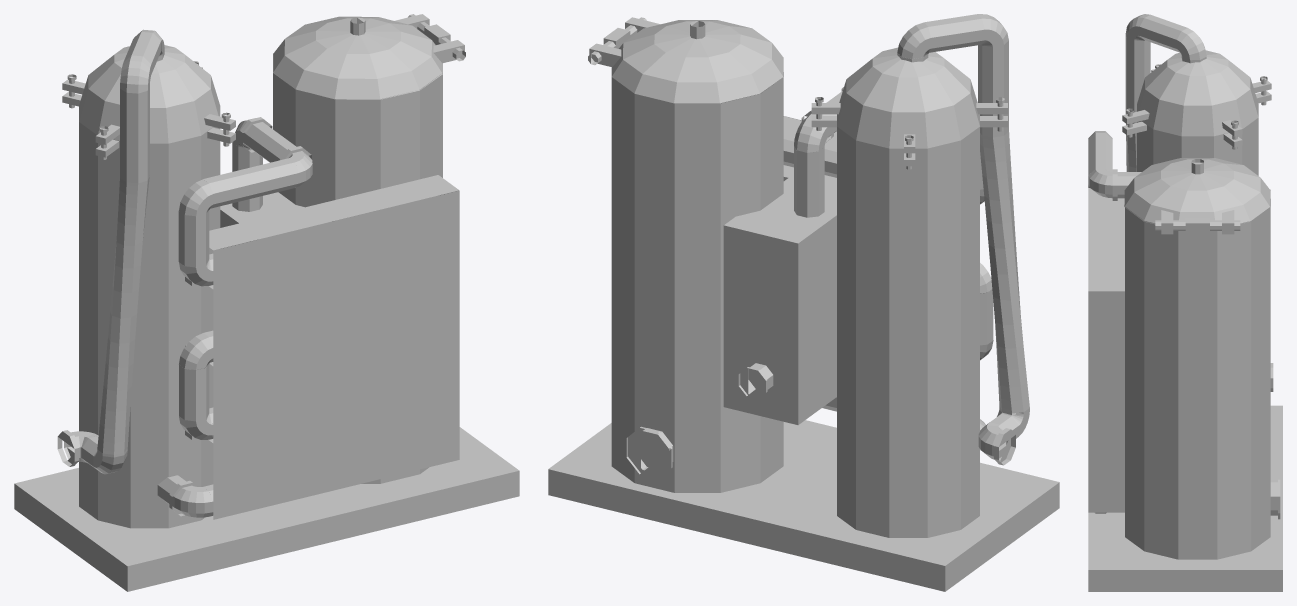
3 renders of one model, left to right at view 1: azimuth 30°, elevation 25°; view 2: azimuth 150°, elevation 25°; view 3: azimuth 270°, elevation 25°, orthographic. The views are drawn at different scales.
Parts seen in each view (by area): view 1: pipe-cover_pipe_cover_2, gas-filter_cylinder.022, firebox_cylinder.060, gasifier-base_base, piping2_cylinder.002, piping1_cylinder.059, condenser_cylinder.054; view 2: gas-filter_cylinder.022, firebox_cylinder.060, gasifier-base_base, condenser_cylinder.054, piping2_cylinder.002, piping1_cylinder.059, pipe-cover_pipe_cover_2; view 3: firebox_cylinder.060, gas-filter_cylinder.022, pipe-cover_pipe_cover_2, gasifier-base_base, piping2_cylinder.002, piping1_cylinder.059.
Boxes of the visible parts, <box> form: pipe-cover_pipe_cover_2: <box>185,175,459,519</box>; gas-filter_cylinder.022: <box>62,45,235,528</box>; firebox_cylinder.060: <box>273,14,465,483</box>; gasifier-base_base: <box>14,427,519,591</box>; piping2_cylinder.002: <box>57,29,164,474</box>; piping1_cylinder.059: <box>174,117,312,517</box>; condenser_cylinder.054: <box>220,192,329,248</box>; gas-filter_cylinder.022: <box>811,47,1007,537</box>; firebox_cylinder.060: <box>588,17,783,492</box>; gasifier-base_base: <box>548,420,1059,591</box>; condenser_cylinder.054: <box>723,174,836,424</box>; piping2_cylinder.002: <box>897,14,1029,465</box>; piping1_cylinder.059: <box>783,87,993,427</box>; pipe-cover_pipe_cover_2: <box>783,116,836,182</box>; firebox_cylinder.060: <box>1124,158,1280,559</box>; gas-filter_cylinder.022: <box>1122,50,1271,175</box>; pipe-cover_pipe_cover_2: <box>1088,188,1124,512</box>; gasifier-base_base: <box>1088,405,1282,591</box>; piping2_cylinder.002: <box>1125,14,1206,171</box>; piping1_cylinder.059: <box>1088,131,1141,513</box>.
Bounding box in the file's own units: 2.02 × 2.44 × 1.
